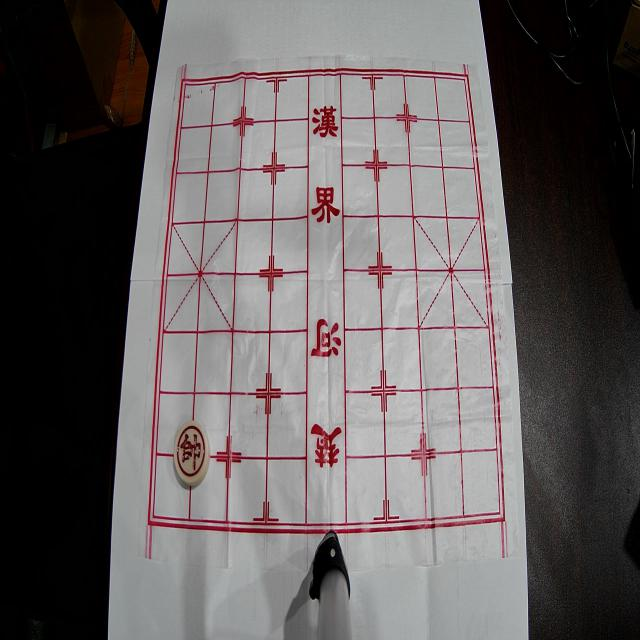red-general: (174, 421, 210, 486)
